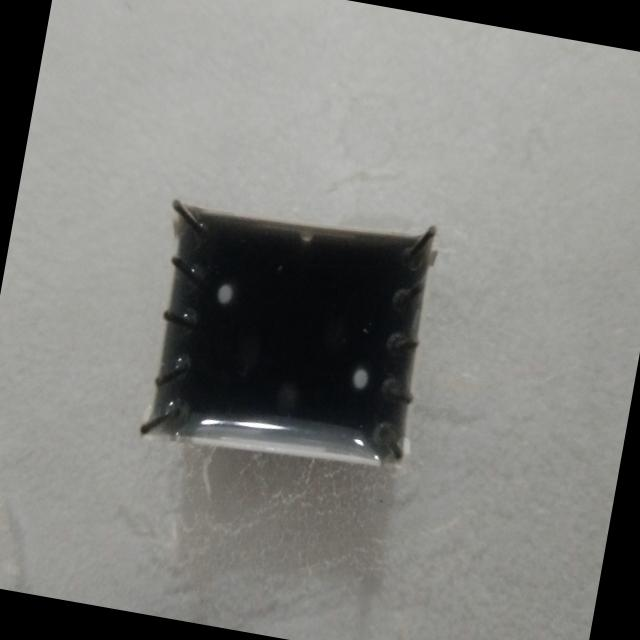7_segments: (114, 174, 474, 506)
